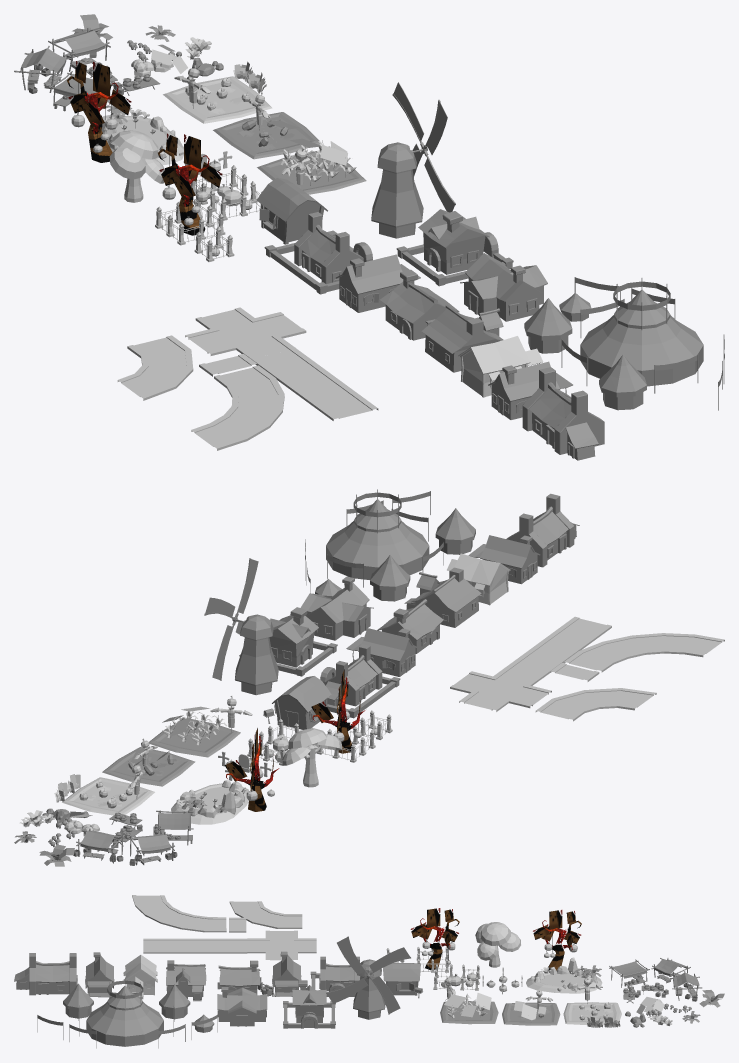
The model's file is Halloween_Farm.obj.
3 renders of one model, top to bottom at view 1: azimuth 30°, elevation 25°; view 2: azimuth 150°, elevation 25°; view 3: azimuth 270°, elevation 25°, orthographic. The views are drawn at different scales.
Parts seen in each view (by area): view 1: Line400, Object279, Object281, Object288, Object272, Object297, Object289, Object164, Line311, Object286, Cylinder004, Cylinder005 (+19 smaller); view 2: Line400, Object279, Object288, Object272, Object297, Object289, Line311, Object281, Object286, Line399, Object282, Object164 (+20 smaller); view 3: Line400, Object279, Object281, Object288, Object272, Object289, Object297, Cylinder005, Cylinder004, Line1423, Object286, Line311 (+21 smaller).
Part boxes in pixels (x1,y1,x2,y2): Line400: (524, 277, 724, 410); Object279: (371, 82, 455, 238); Object281: (522, 367, 604, 460); Object288: (191, 365, 284, 450); Object272: (460, 253, 547, 321); Object297: (185, 307, 306, 358); Object289: (251, 348, 378, 420); Object164: (418, 209, 489, 274); Line311: (421, 304, 503, 372); Object286: (117, 335, 193, 400); Cylinder004: (67, 61, 131, 162); Cylinder005: (158, 133, 222, 235); Line400: (305, 489, 475, 601); Object279: (204, 558, 278, 695); Object288: (564, 633, 724, 672); Object272: (300, 576, 373, 640); Object297: (450, 667, 551, 711); Object289: (506, 616, 611, 677); Line311: (404, 567, 481, 627); Object281: (506, 493, 579, 567); Object286: (535, 688, 656, 721); Line399: (62, 777, 154, 815); Object282: (263, 676, 331, 729); Object164: (269, 607, 318, 667); Line400: (37, 978, 217, 1048); Object279: (326, 936, 410, 1019); Object281: (14, 953, 77, 995); Object288: (132, 895, 226, 932); Object272: (217, 987, 267, 1026); Object289: (143, 938, 247, 953); Object297: (247, 930, 316, 960); Cylinder005: (410, 908, 459, 970); Cylinder004: (533, 910, 581, 970); Line1423: (475, 922, 520, 967); Object286: (229, 901, 302, 928); Line311: (166, 960, 206, 1001).
Bounding box in the file's own units: 1756 × 486 × 3590.
